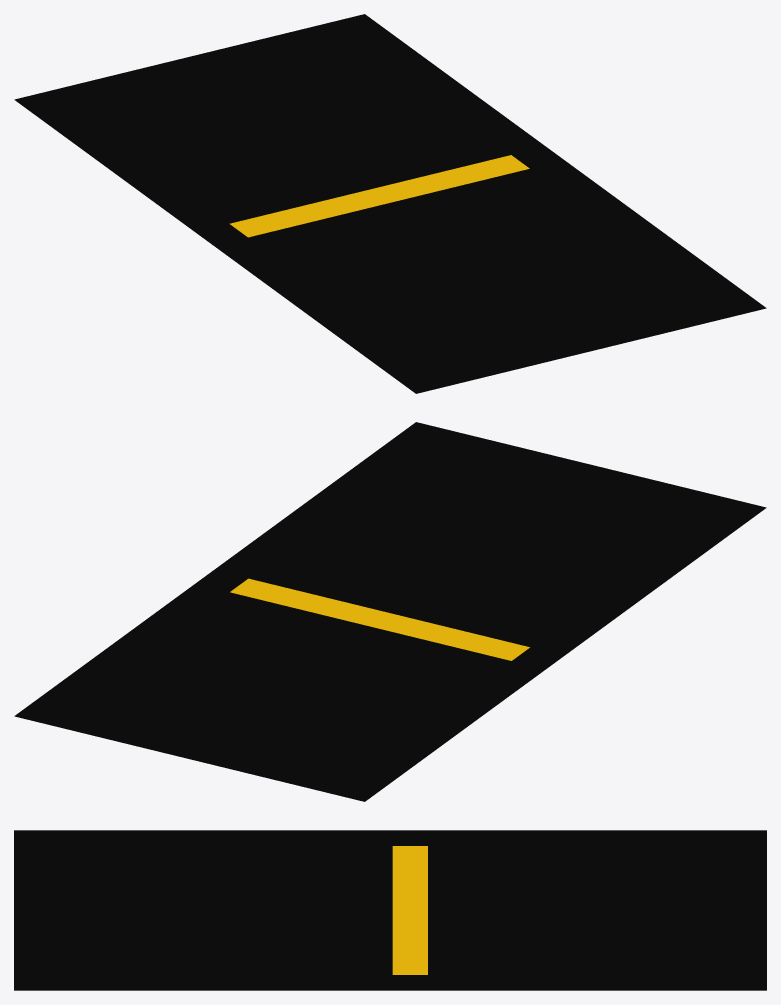
Rendered from StreetPlane.fbx.
3 views of the same model, one above another, from view 1: azimuth 30°, elevation 25°; view 2: azimuth 150°, elevation 25°; view 3: azimuth 270°, elevation 25° (orthographic). The views are drawn at different scales.
Visible parts, largest first — view 1: StreetPlane; view 2: StreetPlane; view 3: StreetPlane.
Boxes of the visible parts, bbox=[...] form: StreetPlane: bbox=[14, 14, 766, 393]; StreetPlane: bbox=[14, 422, 766, 801]; StreetPlane: bbox=[14, 830, 766, 990].
Bounding box in the file's own units: 11.98 × 1.04e-06 × 23.79.
